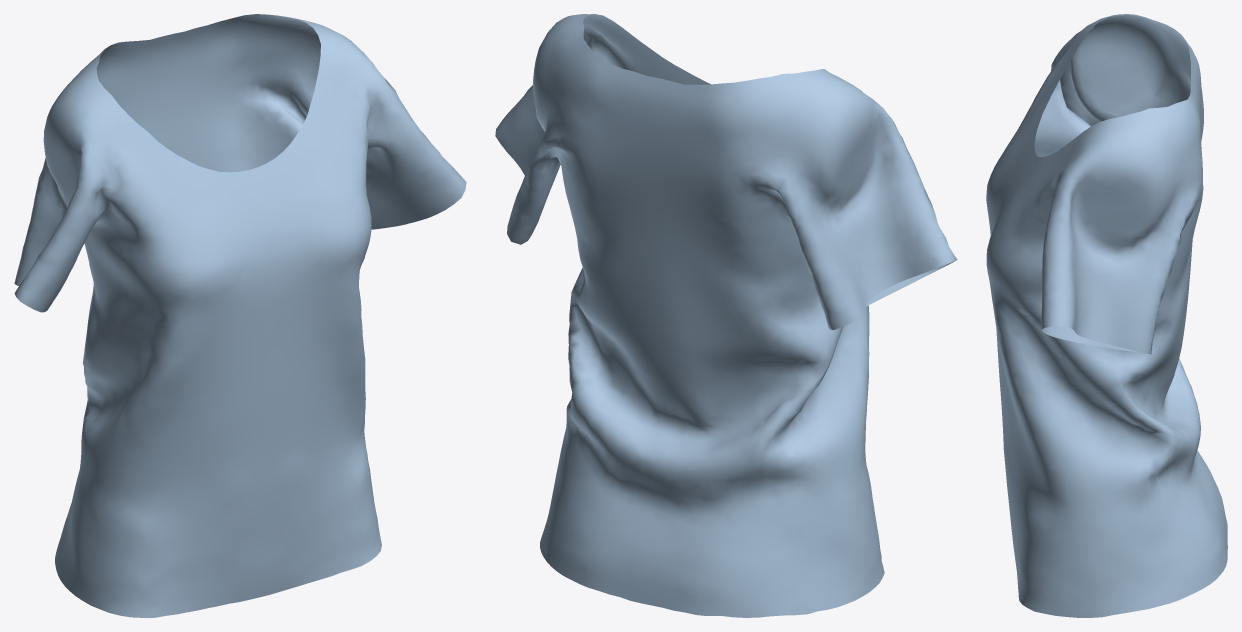
File: tee_XXS.glb
3 renders of one model, left to right at view 1: azimuth 30°, elevation 25°; view 2: azimuth 150°, elevation 25°; view 3: azimuth 270°, elevation 25°, orthographic. The views are drawn at different scales.
Visible parts, largest first — view 1: geometry_0; view 2: geometry_0; view 3: geometry_0.
Part boxes in pixels (bbox=[...]): geometry_0: bbox=[14, 14, 466, 617]; geometry_0: bbox=[495, 14, 957, 617]; geometry_0: bbox=[986, 14, 1227, 617].
Bounding box in the file's own units: 0.4826 × 0.5327 × 0.2361.
